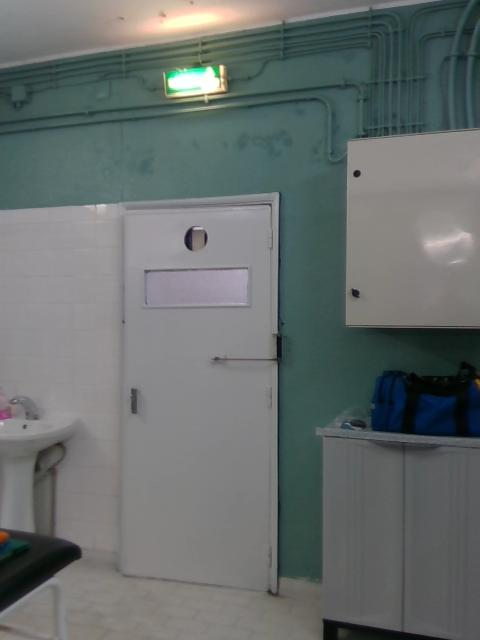door: (124, 202, 271, 596)
